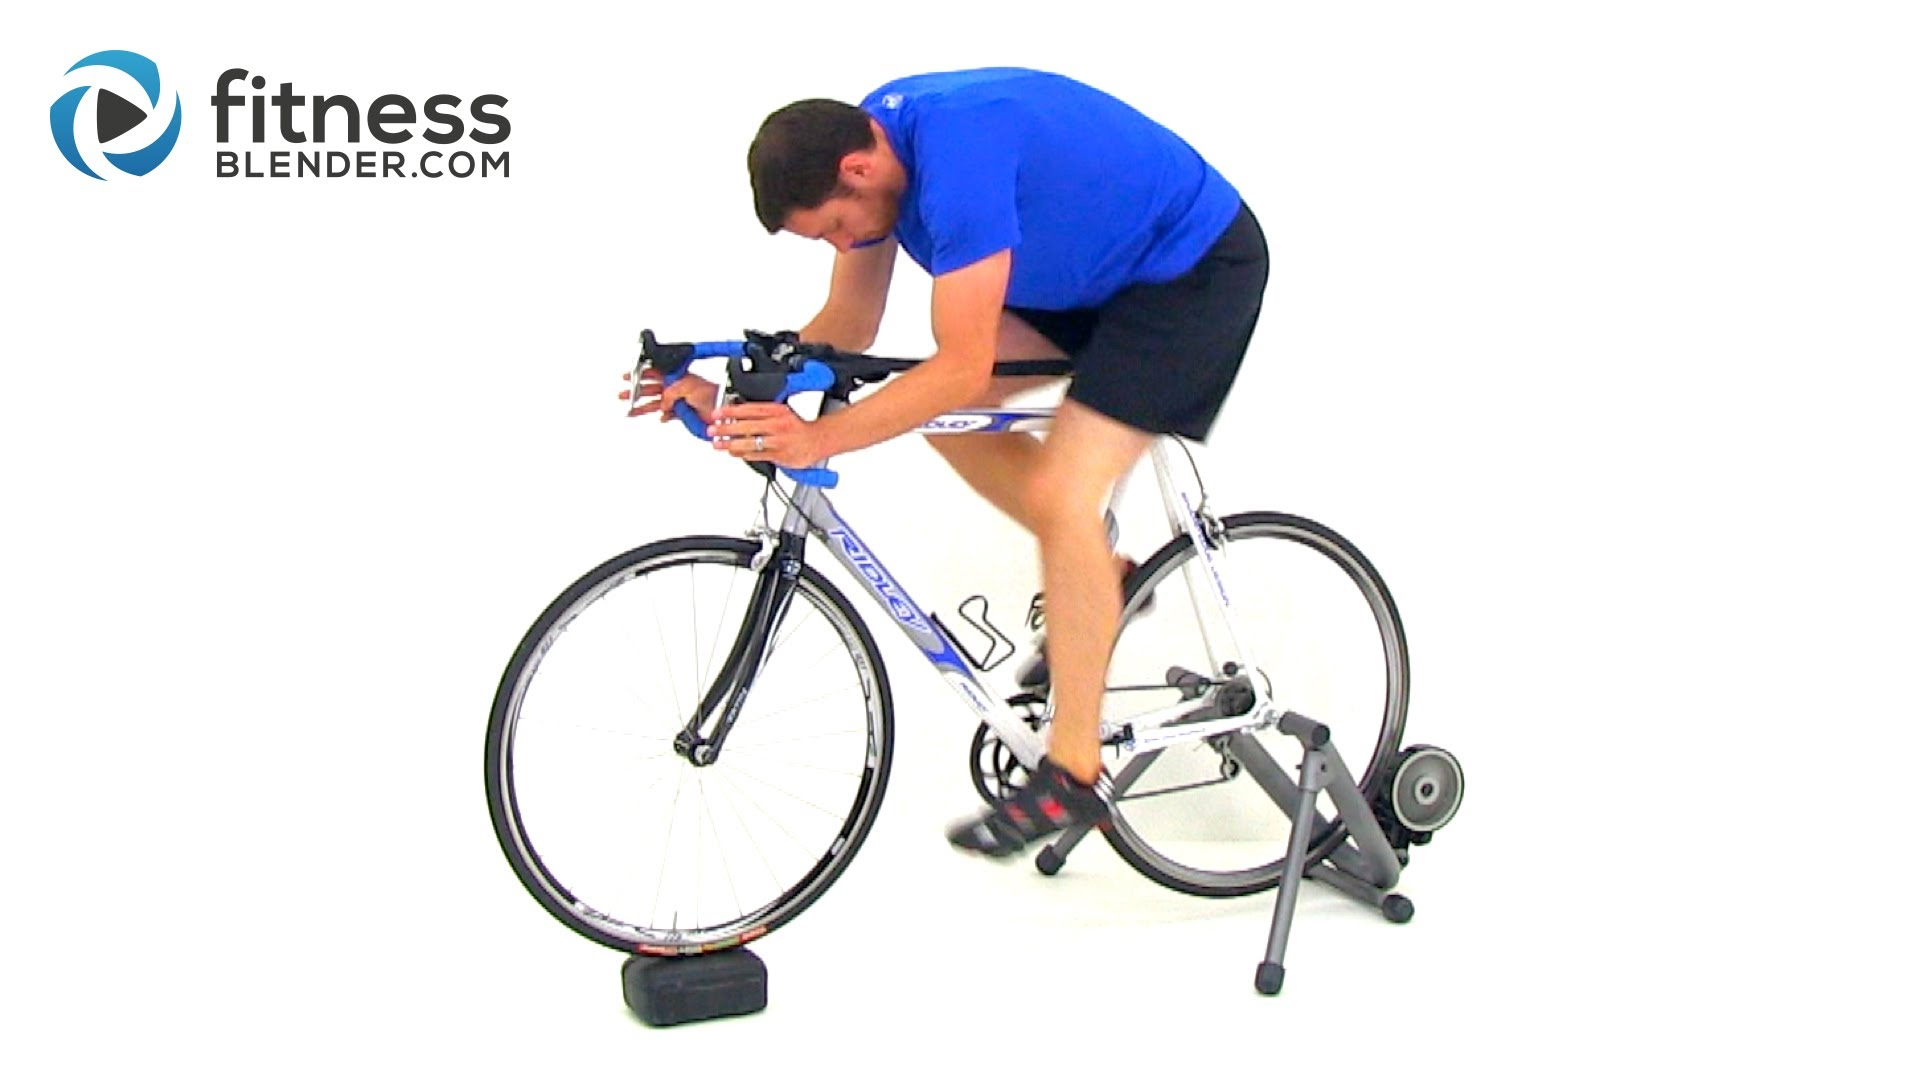gym_bike: (348, 363, 1495, 964)
